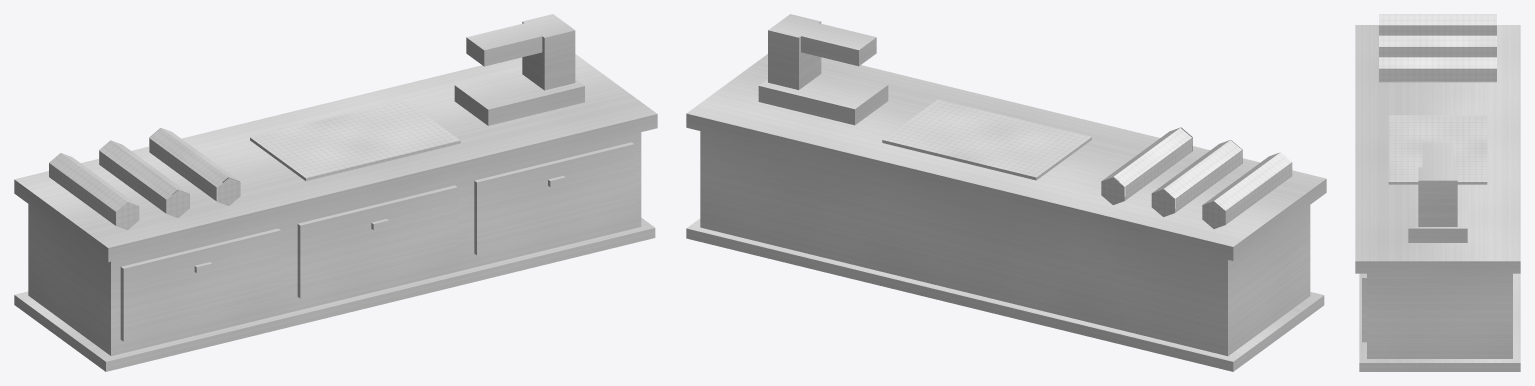
File: bench_electric_tailor.obj
The picture shows the model from 3 angles, left to right: view 1: azimuth 30°, elevation 25°; view 2: azimuth 150°, elevation 25°; view 3: azimuth 270°, elevation 25°; orthographic projection. The views are drawn at different scales.
Visible parts, largest first — view 1: bench_electric_tailor; view 2: bench_electric_tailor; view 3: bench_electric_tailor.
Part boxes in pixels (x1,y1,x2,y2): bench_electric_tailor: (14,14,657,371); bench_electric_tailor: (686,14,1326,371); bench_electric_tailor: (1355,14,1520,371).
Size of the model in its own units: 2.84 by 0.96 by 0.84.
